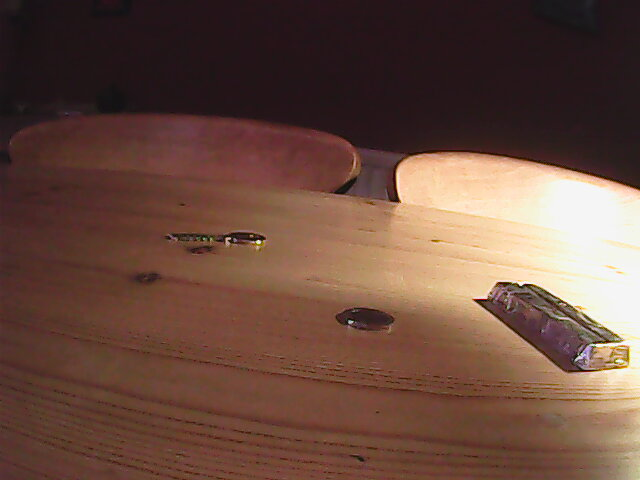Coin: (340, 303, 397, 332)
Foil: (489, 280, 634, 372)
Key: (163, 228, 268, 249)
